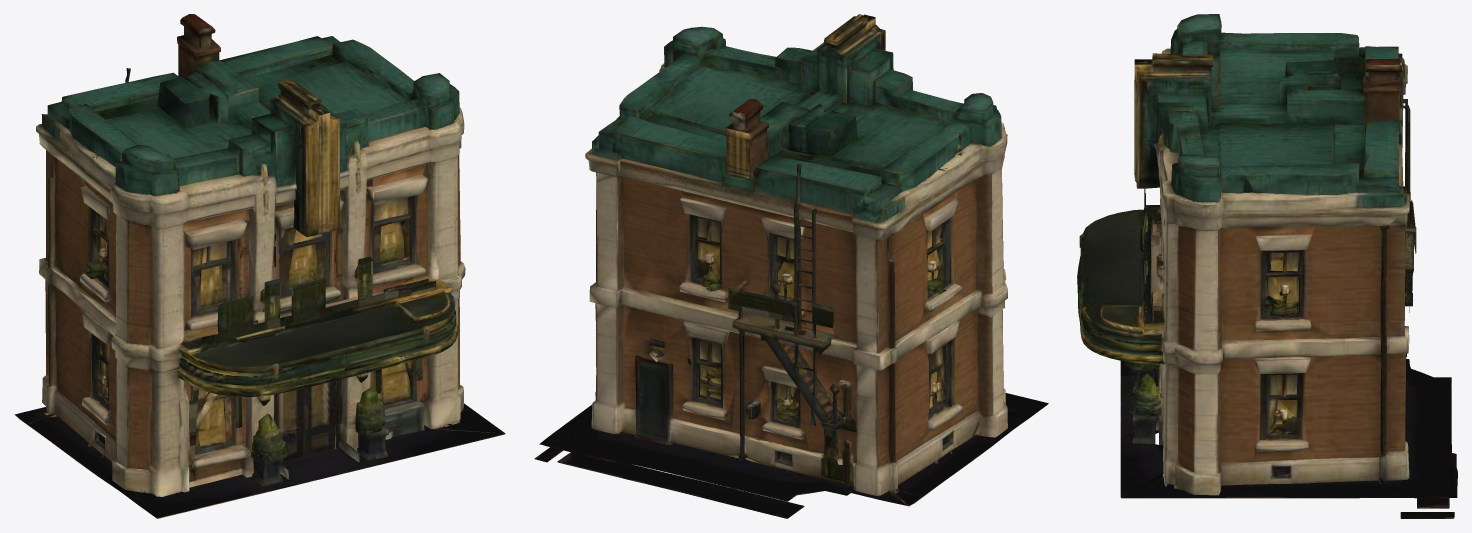
Rendered from candidate.glb.
The picture shows the model from 3 angles, left to right: view 1: azimuth 30°, elevation 25°; view 2: azimuth 150°, elevation 25°; view 3: azimuth 270°, elevation 25°; orthographic projection.
Visible parts, largest first — view 1: expansion__hotel_2__native_mobile; view 2: expansion__hotel_2__native_mobile; view 3: expansion__hotel_2__native_mobile.
Boxes of the visible parts, x1,y1,x2,y2 form: expansion__hotel_2__native_mobile: (14, 14, 505, 518); expansion__hotel_2__native_mobile: (534, 14, 1048, 518); expansion__hotel_2__native_mobile: (1077, 14, 1457, 518).
Size of the model in its own units: 0.9671 by 1 by 0.911.
1 material, 1 textured.
